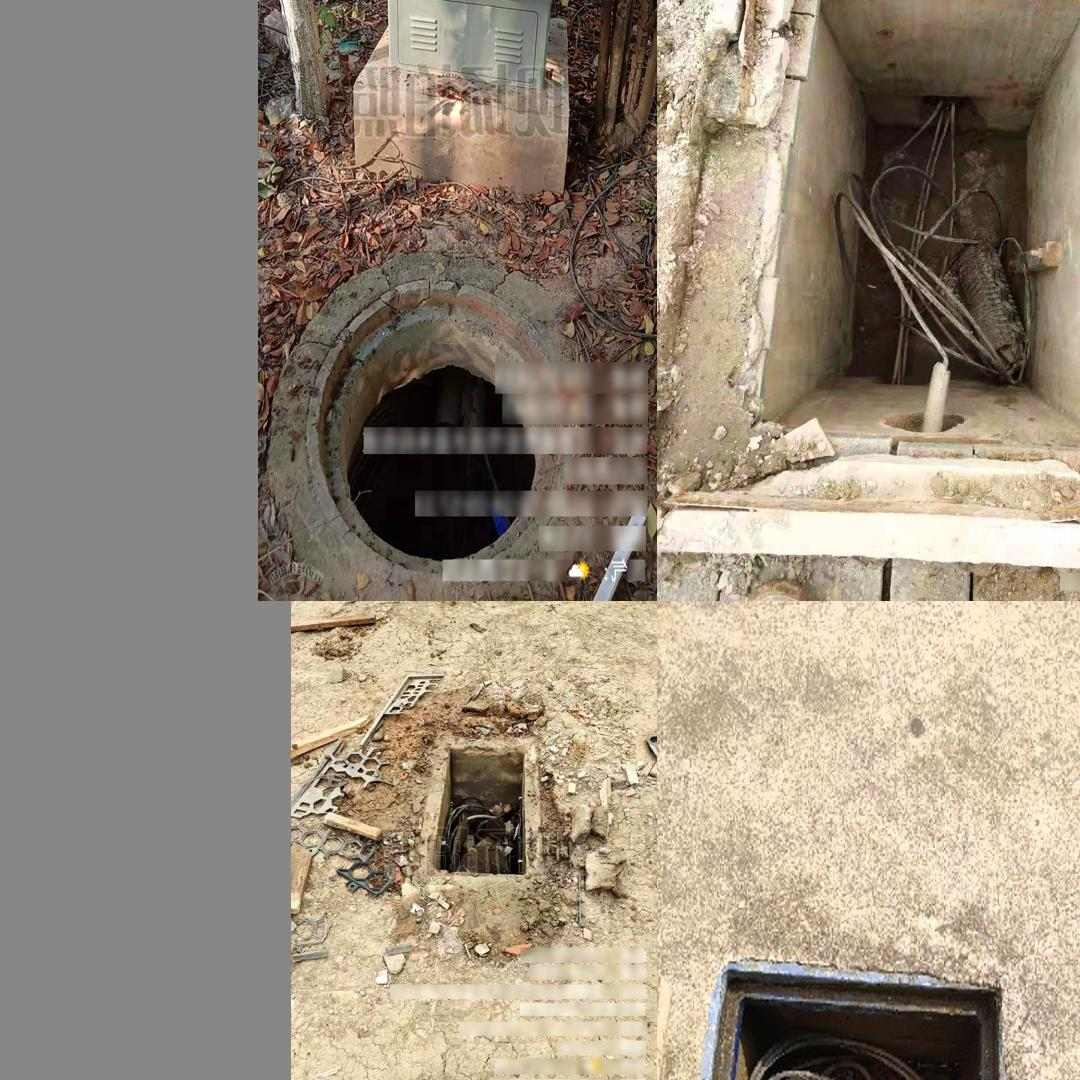lose: (657, 0, 1080, 576), (307, 280, 568, 573), (658, 959, 1018, 1080), (429, 747, 530, 878)
